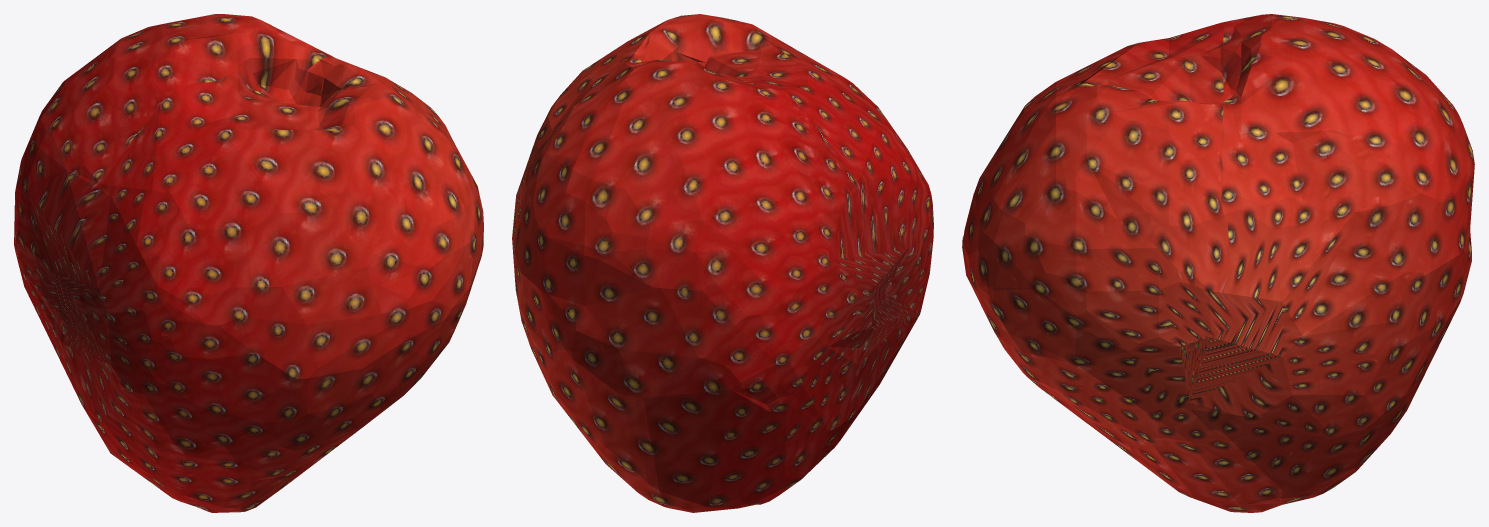
The picture shows the model from 3 angles, left to right: view 1: azimuth 30°, elevation 25°; view 2: azimuth 150°, elevation 25°; view 3: azimuth 270°, elevation 25°; orthographic projection. The views are drawn at different scales.
Visible parts, largest first — view 1: _001_Meshed; view 2: _001_Meshed; view 3: _001_Meshed.
Part boxes in pixels (bbox=[...]): _001_Meshed: bbox=[14, 14, 483, 512]; _001_Meshed: bbox=[512, 14, 933, 512]; _001_Meshed: bbox=[962, 14, 1474, 512].
Size of the model in its own units: 0.0964 by 0.1104 by 0.1128.
Materials: 1 (1 with a texture image).
